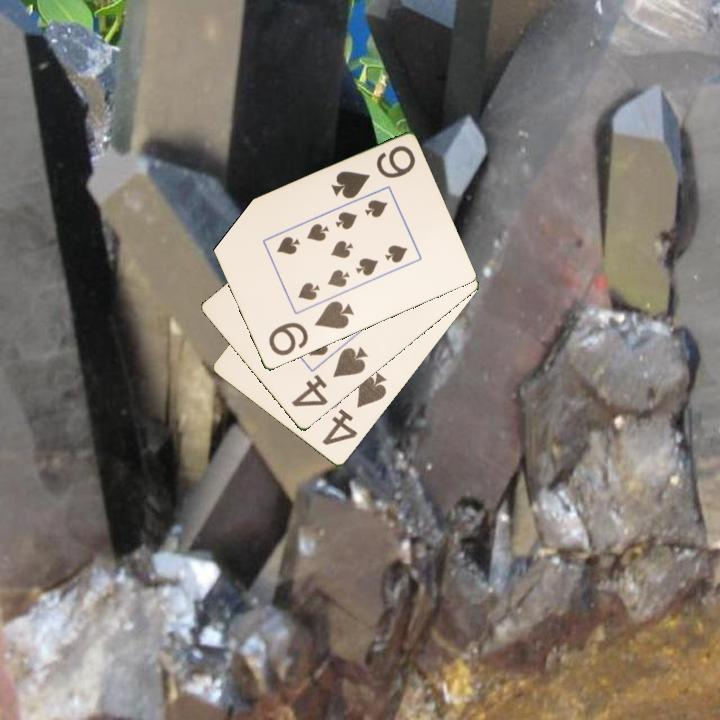4s: (318, 369, 390, 449), (288, 343, 371, 410)
9s: (265, 298, 357, 359), (327, 142, 418, 202)
